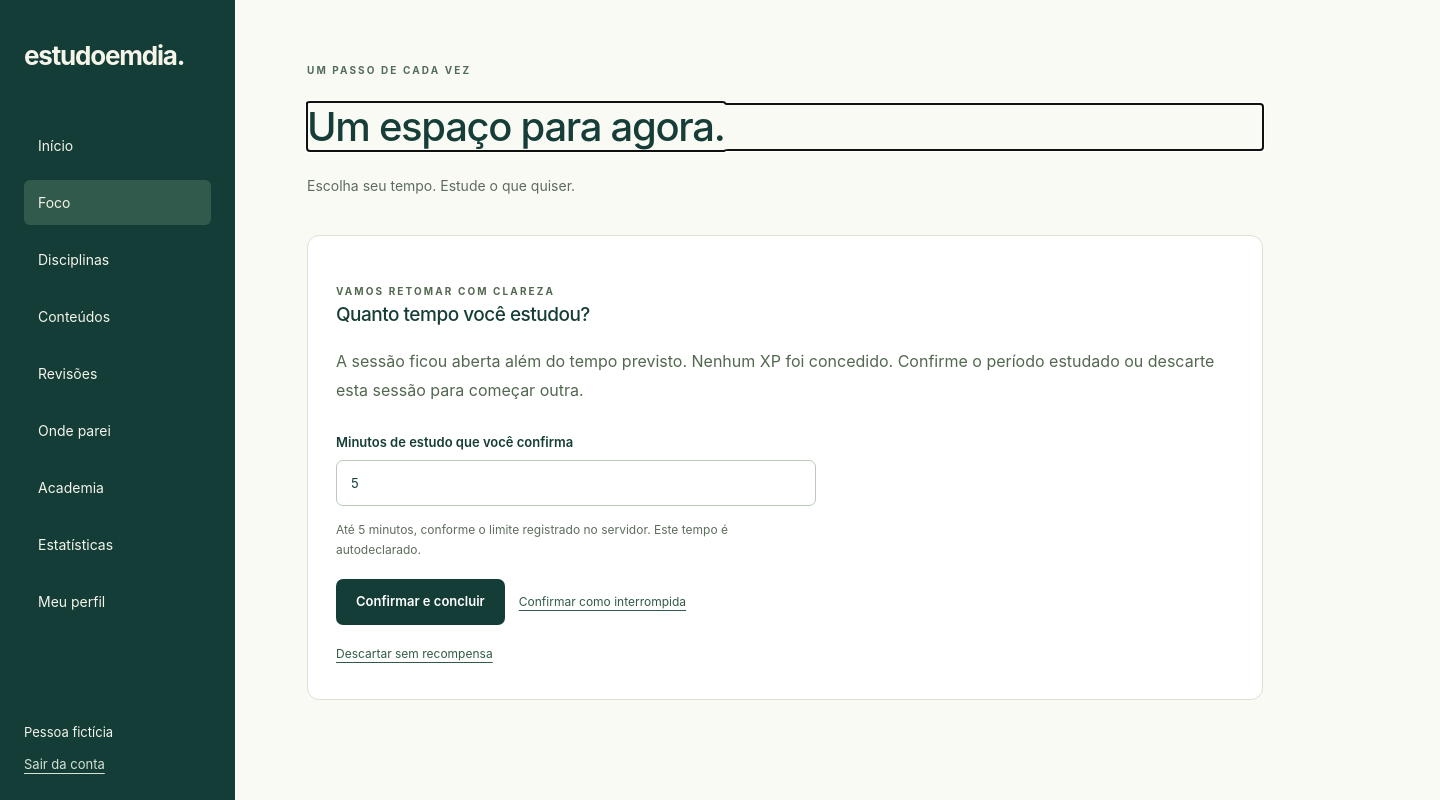
Test: fluxo de foco › sessão pendente exige decisão humana antes de qualquer XP
expect the heading "Quanto tempo você estudou?" is shown: met, box [336, 303, 590, 326]
expect the text "Nenhum XP foi concedido" is shown: met, box [336, 351, 1214, 400]
Click the button "Descartar sem recompensa" at (414, 654), box [336, 637, 493, 671]
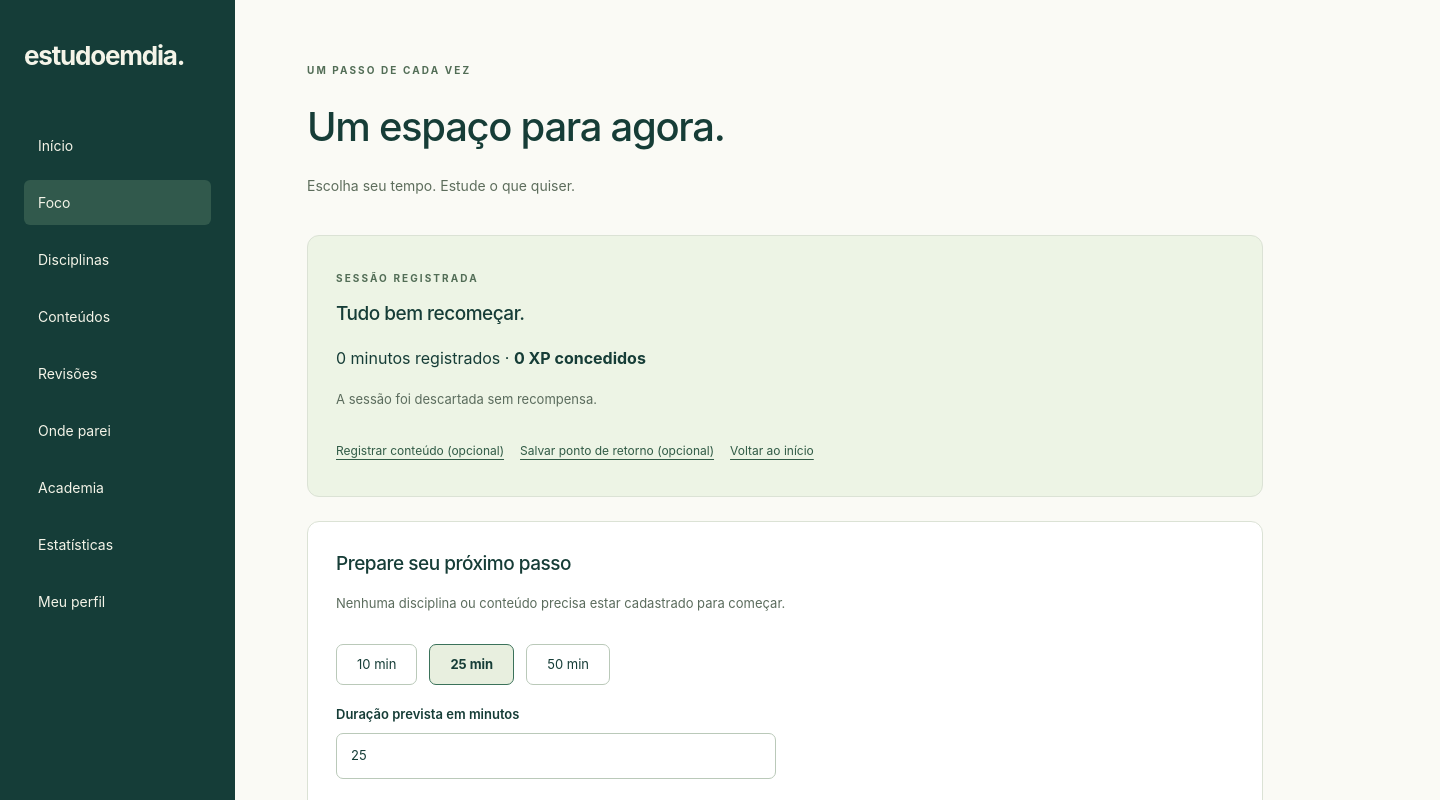
expect the text "A sessão foi descartada sem recompensa." is shown: met, box [336, 391, 597, 407]
